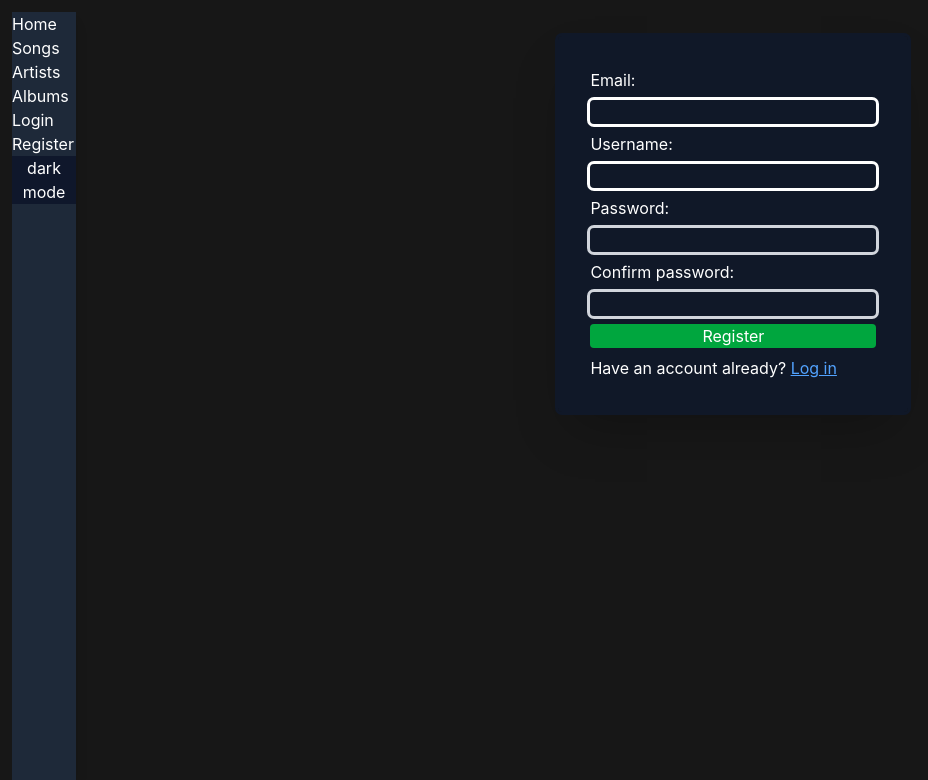
Test: Registration › displays error when user enters incorrect confirm password
The image size is (928, 780).
Step 1. Type "register@example.com" into the field with id "email" → (733, 112), box [590, 100, 876, 124]
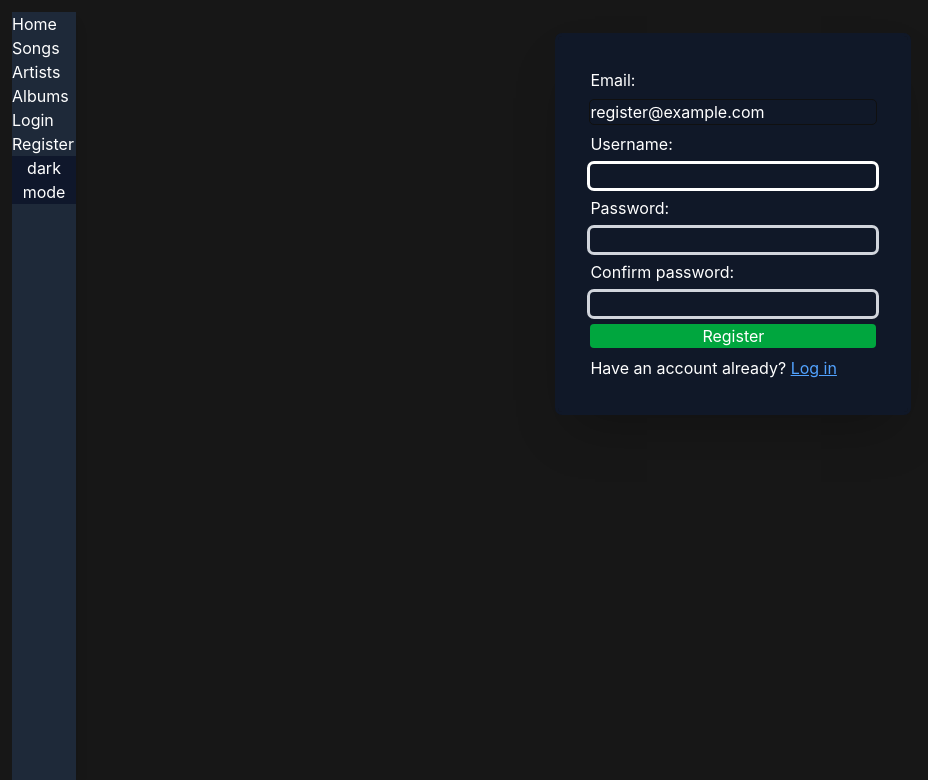
Step 2. Type "registerTest" into the field with id "username" → (733, 176), box [590, 164, 876, 188]
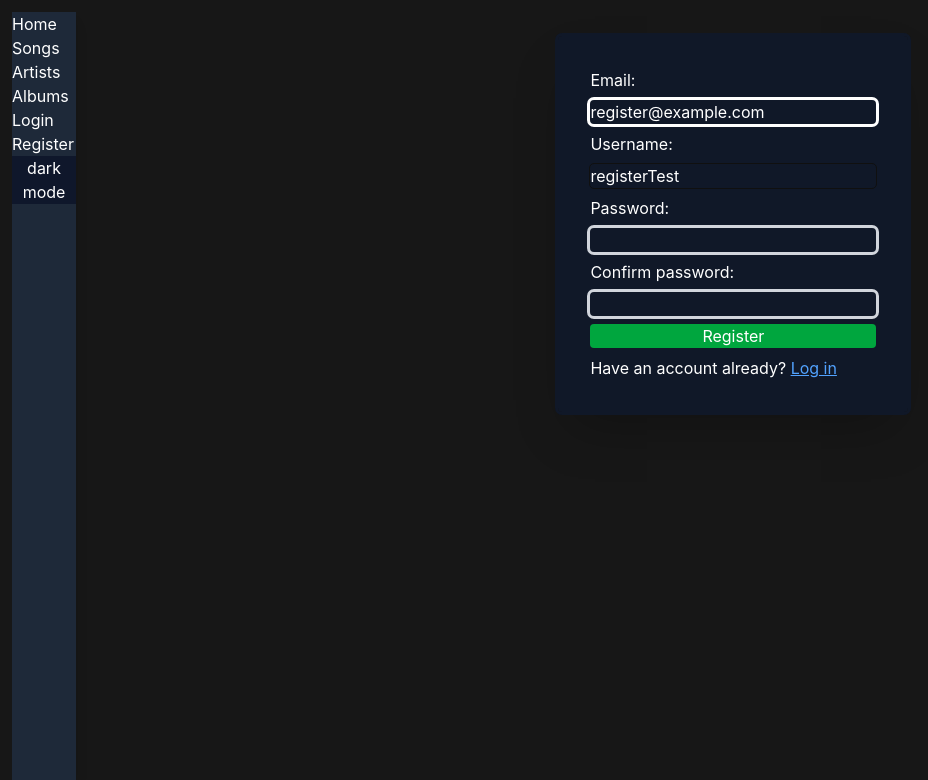
Step 3. Type "password123" into the password field labelled "Password:" → (733, 240), box [590, 228, 876, 252]
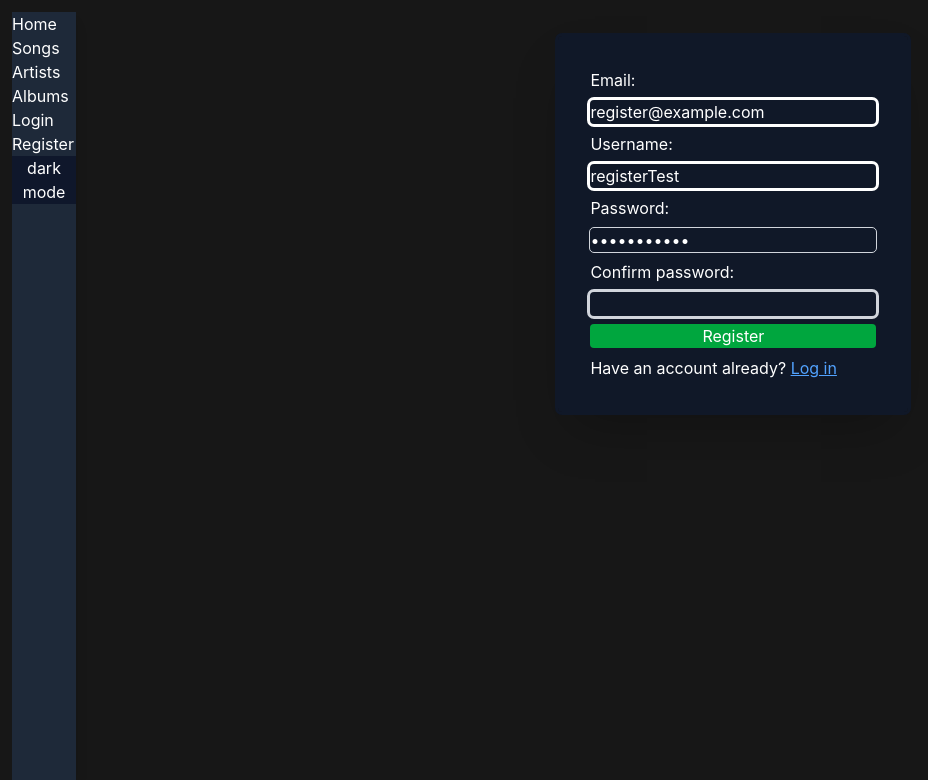
Step 4. Type "123password" into the password field with id "confirmPassword" → (733, 304), box [590, 292, 876, 316]
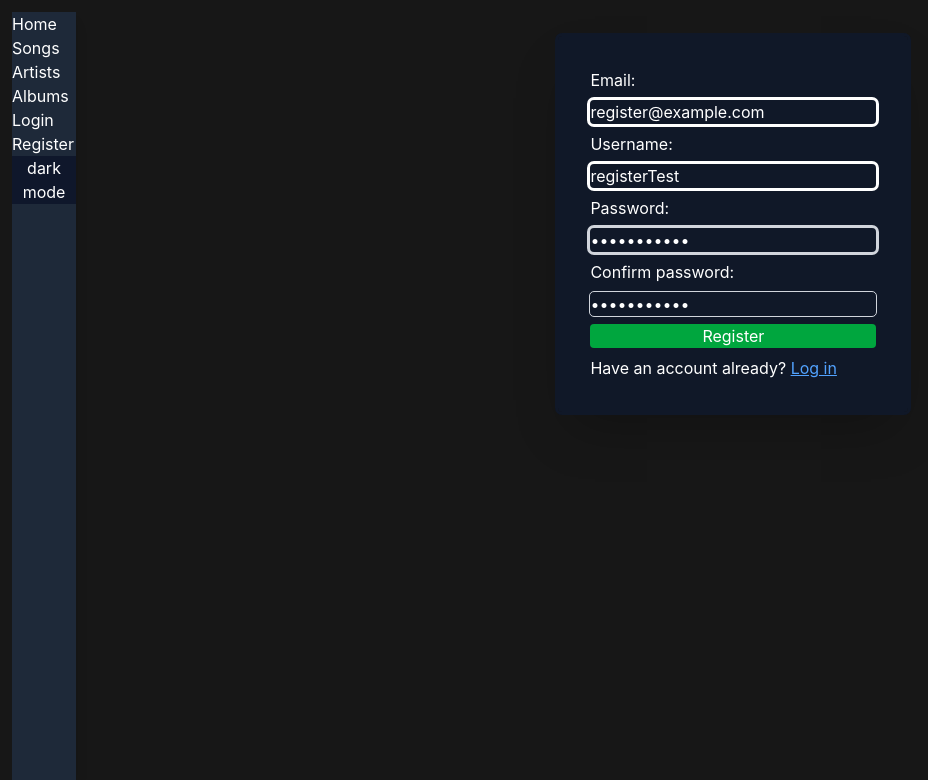
Step 5. Click the button with id "regiButton" → (733, 336), box [590, 324, 876, 348]
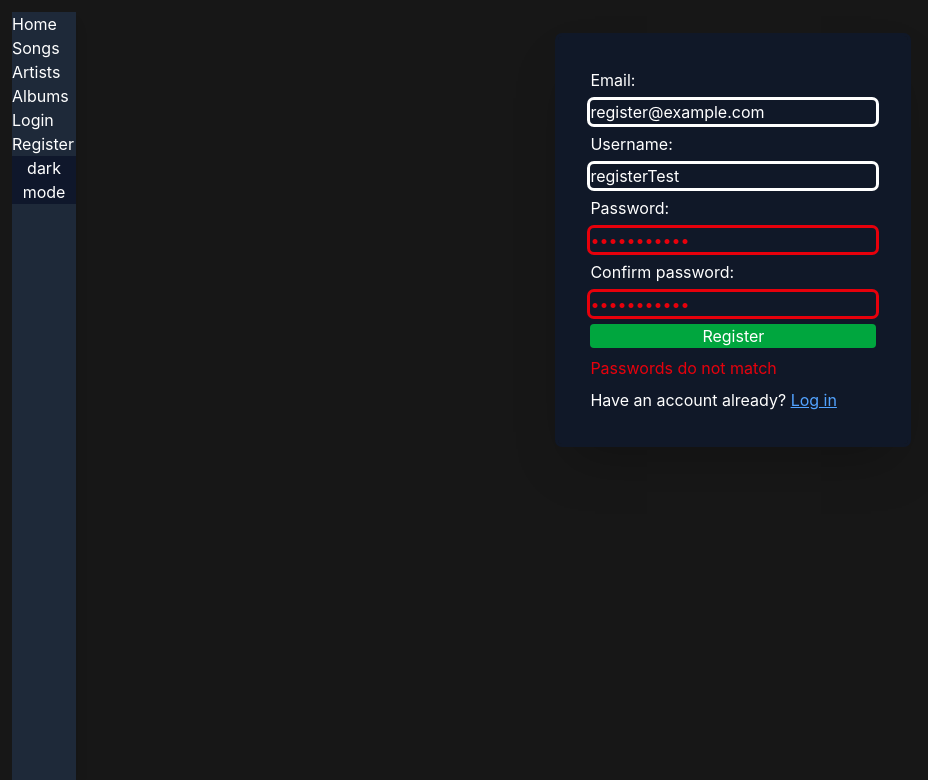
Result: the text "Passwords do not match" is shown at [590, 358, 777, 378]
